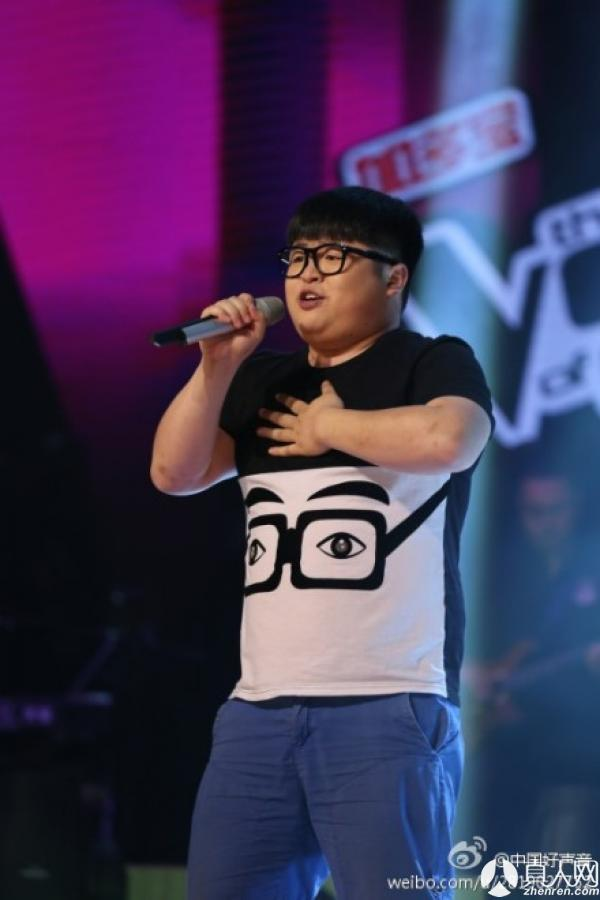handsup: (148, 177, 526, 899)
